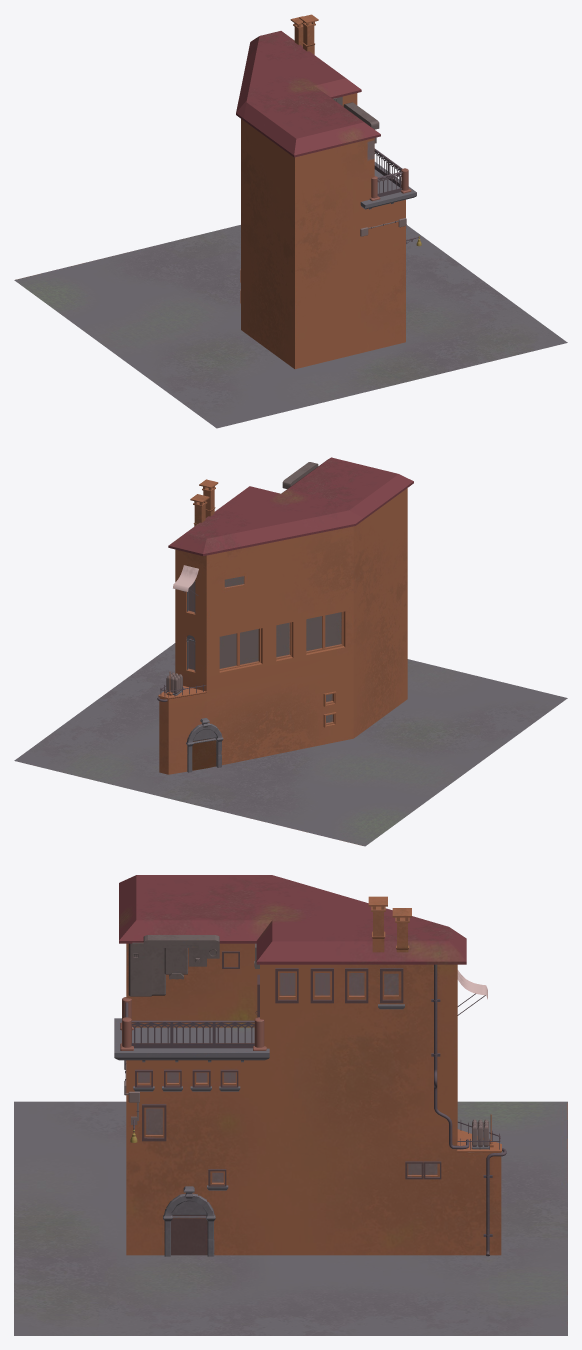
Rendered from house_valo.glb.
The picture shows the model from 3 angles, top to bottom: view 1: azimuth 30°, elevation 25°; view 2: azimuth 150°, elevation 25°; view 3: azimuth 270°, elevation 25°; orthographic projection. The views are drawn at different scales.
Parts seen in each view (by area): view 1: polySurface126; view 2: polySurface126; view 3: polySurface126.
Boxes of the visible parts, box(x1,y1,x2,y2) form: polySurface126: box(14, 14, 567, 428); polySurface126: box(14, 457, 567, 846); polySurface126: box(14, 875, 567, 1335).
Bounding box in the file's own units: 20.93 × 14.77 × 20.93.
Materials: 1 (1 with a texture image).
